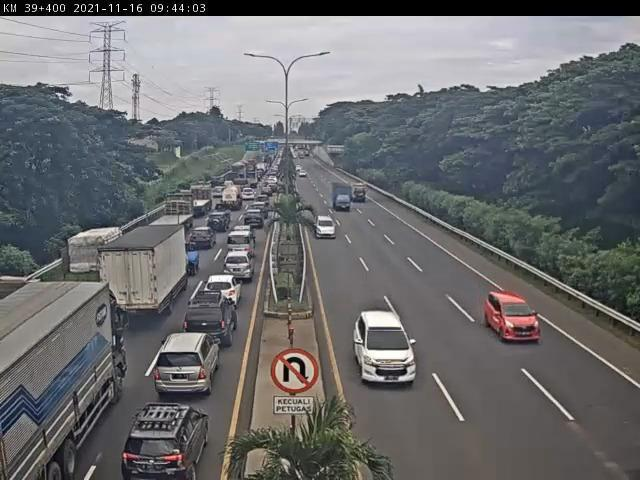car: (125, 402, 211, 480), (470, 277, 556, 354), (356, 313, 420, 393), (163, 327, 223, 401), (191, 288, 240, 352), (206, 271, 246, 311), (225, 247, 257, 284), (315, 212, 340, 242), (230, 231, 256, 259), (235, 225, 260, 254), (196, 224, 219, 254), (209, 207, 230, 237), (244, 207, 266, 235)
truck: (1, 281, 129, 480), (99, 225, 192, 319), (64, 226, 131, 308), (151, 194, 195, 245), (183, 185, 213, 218), (335, 182, 356, 213), (353, 184, 370, 207)
